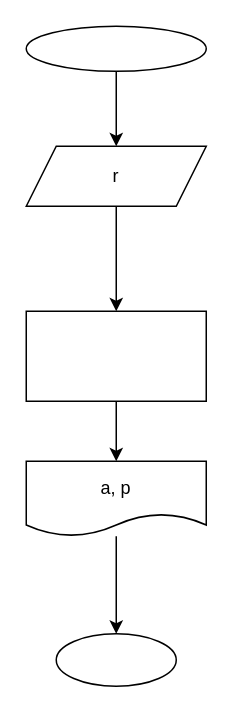
Image size: 233x713. Some labels were removed from this diagram. Here are the shapes that lost their labels. From the top down, the box of each, then its label:
(25, 25, 206, 71): Inicio
(25, 310, 206, 401): a=pi*r 2 p=2pi*r
